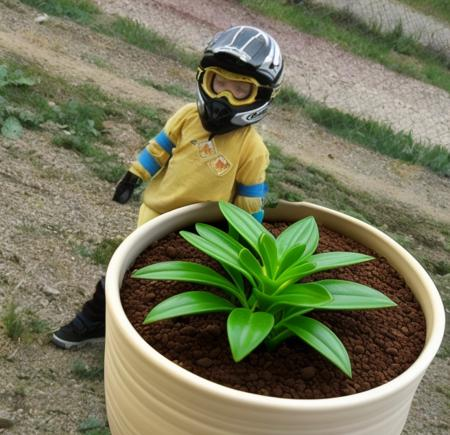person: (48, 25, 273, 383)
pottedplant: (103, 201, 448, 435)
